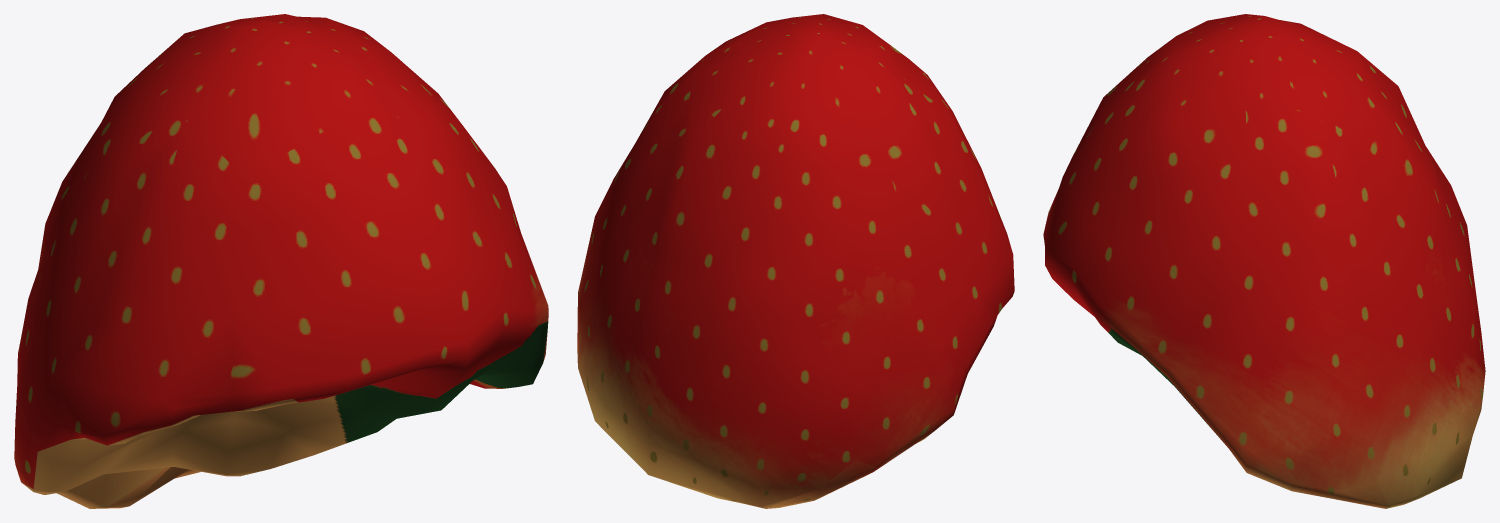
The model's file is FrutillaMiti.fbx.
3 renders of one model, left to right at view 1: azimuth 30°, elevation 25°; view 2: azimuth 150°, elevation 25°; view 3: azimuth 270°, elevation 25°, orthographic. The views are drawn at different scales.
Parts seen in each view (by area): view 1: _low.001; view 2: _low.001; view 3: _low.001.
Boxes of the visible parts, x1,y1,x2,y2 form: _low.001: [14, 14, 548, 508]; _low.001: [577, 14, 1014, 508]; _low.001: [1043, 14, 1485, 508].
Bounding box in the file's own units: 132 × 138 × 124.
